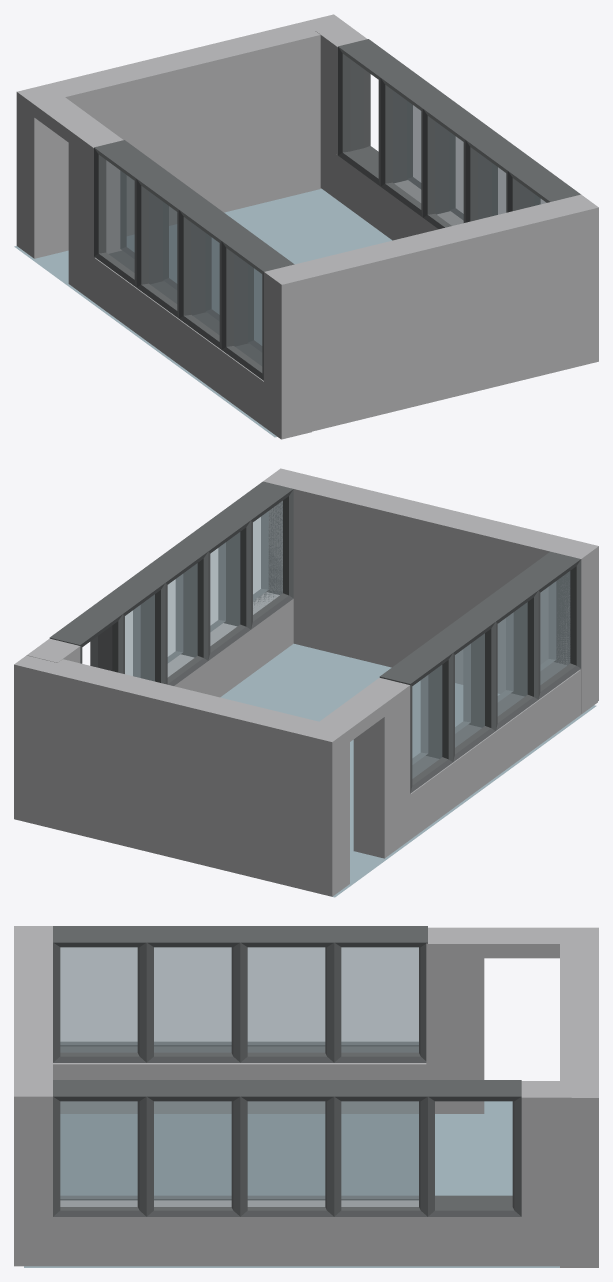
Rendered from Office.fbx.
The picture shows the model from 3 angles, top to bottom: view 1: azimuth 30°, elevation 25°; view 2: azimuth 150°, elevation 25°; view 3: azimuth 270°, elevation 25°; orthographic projection. The views are drawn at different scales.
Parts seen in each view (by area): view 1: pCubeShape15; view 2: pCubeShape15; view 3: pCubeShape15.
Boxes of the visible parts, x1,y1,x2,y2 form: pCubeShape15: (14, 14, 598, 439); pCubeShape15: (14, 468, 598, 897); pCubeShape15: (14, 926, 598, 1267).
Bounding box in the file's own units: 5.21 × 2.42 × 7.49.
